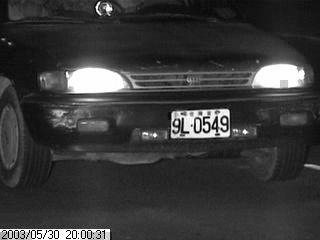plate: (170, 107, 232, 141)
